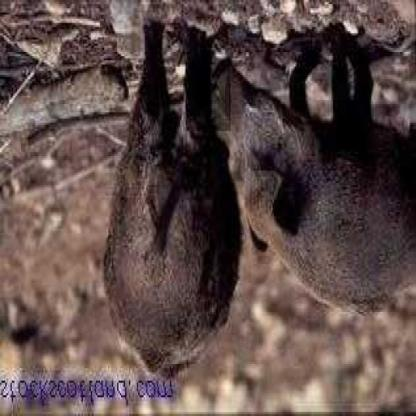boar: (68, 40, 246, 401), (219, 29, 415, 329)
